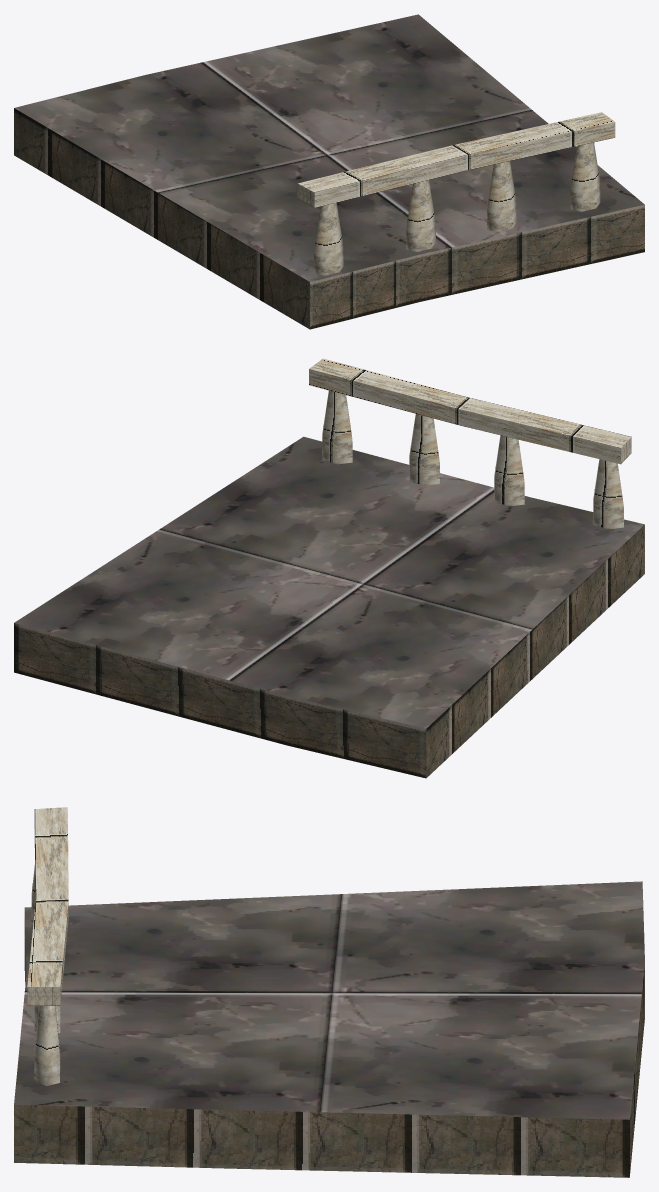
The model's file is INST_SM_WALKWAYD.fbx.
The picture shows the model from 3 angles, top to bottom: view 1: azimuth 30°, elevation 25°; view 2: azimuth 150°, elevation 25°; view 3: azimuth 270°, elevation 25°; orthographic projection. The views are drawn at different scales.
Visible parts, largest first — view 1: INST_SM_WALKWAYD; view 2: INST_SM_WALKWAYD; view 3: INST_SM_WALKWAYD.
Part boxes in pixels (x1,y1,x2,y2): INST_SM_WALKWAYD: (14,14,644,329); INST_SM_WALKWAYD: (14,358,644,778); INST_SM_WALKWAYD: (14,807,644,1177).
Bounding box in the file's own units: 53819 × 16994 × 60197.
3 materials, 3 textured.
